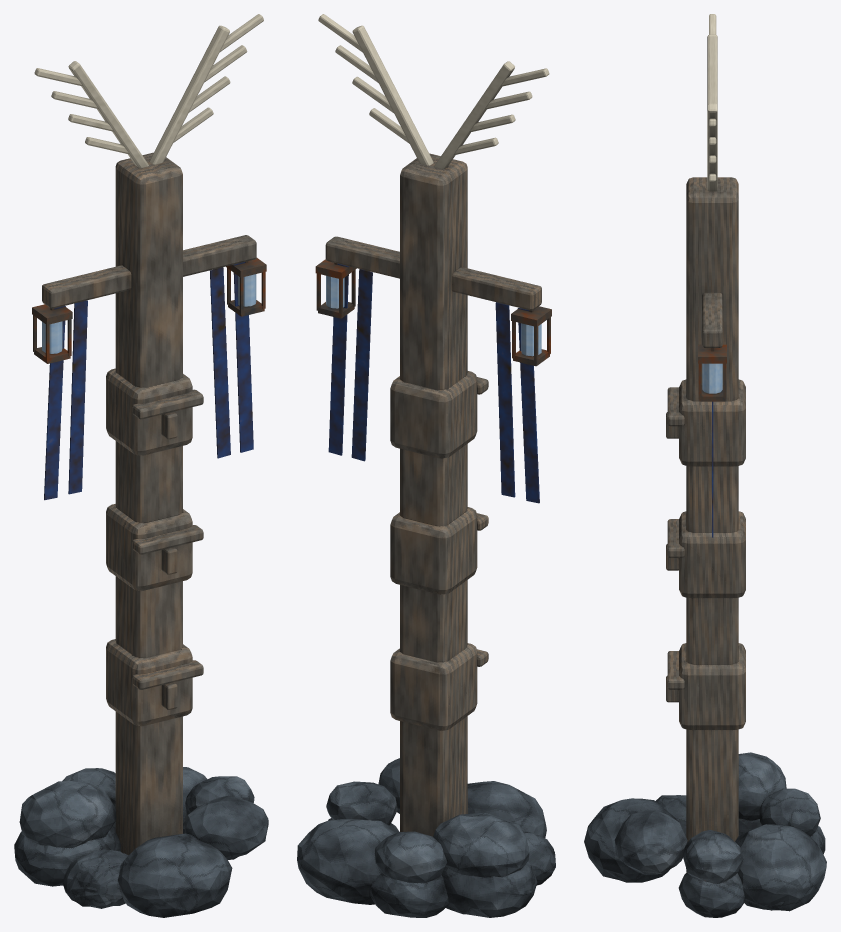
The model's file is snow_totem.glb.
The picture shows the model from 3 angles, left to right: view 1: azimuth 30°, elevation 25°; view 2: azimuth 150°, elevation 25°; view 3: azimuth 270°, elevation 25°; orthographic projection. The views are drawn at different scales.
Visible parts, largest first — view 1: snow_totem; view 2: snow_totem; view 3: snow_totem.
Boxes of the visible parts, x1,y1,x2,y2 form: snow_totem: [14, 14, 268, 917]; snow_totem: [297, 14, 555, 917]; snow_totem: [584, 14, 826, 917].
Size of the model in its own units: 1.76 by 6.1 by 1.67.
6 materials, 6 textured.
